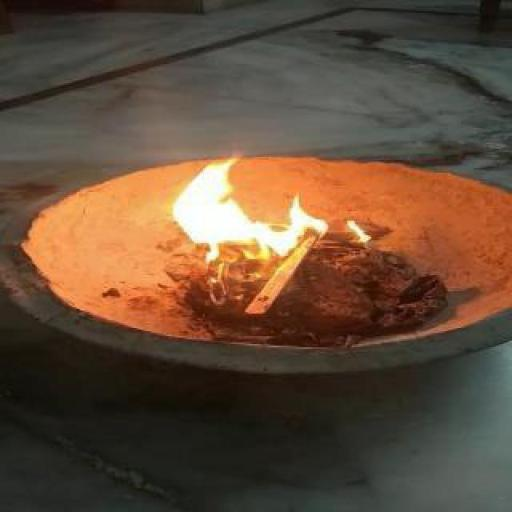smoke: (162, 124, 350, 270)
